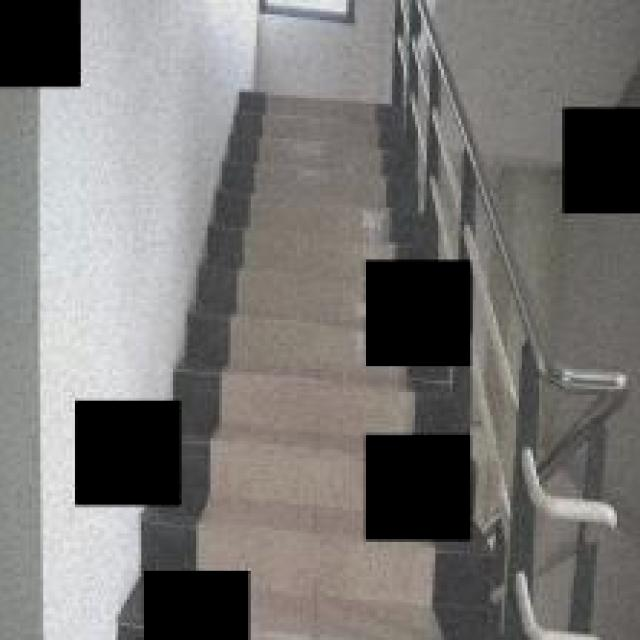upstair: (200, 136, 361, 549)
